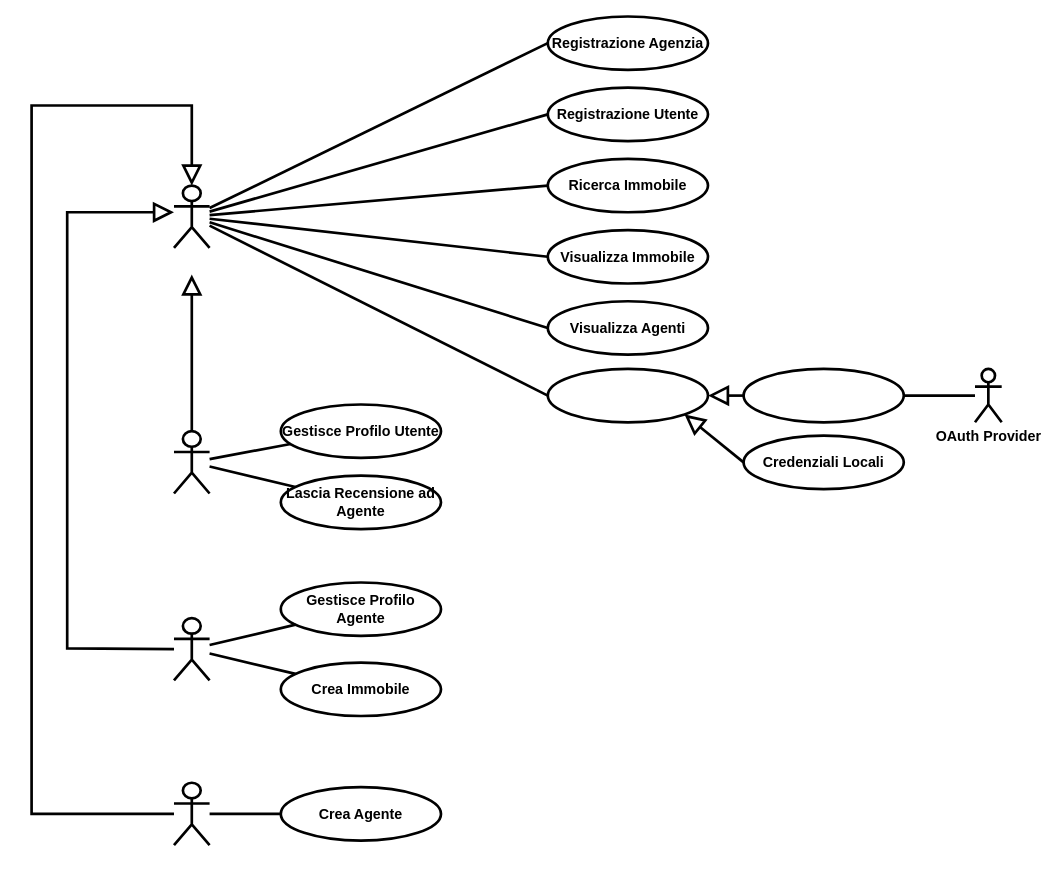
This 1056x884 diagram has some shape labels left out. The centre of each missing label's shape, as x and y in pixels:
Agente: the point at 191,648
Logged User: the point at 191,461
Login: the point at 627,395
Login tramite OAuth: the point at 823,395
Manager: the point at 191,813
User: the point at 191,216
